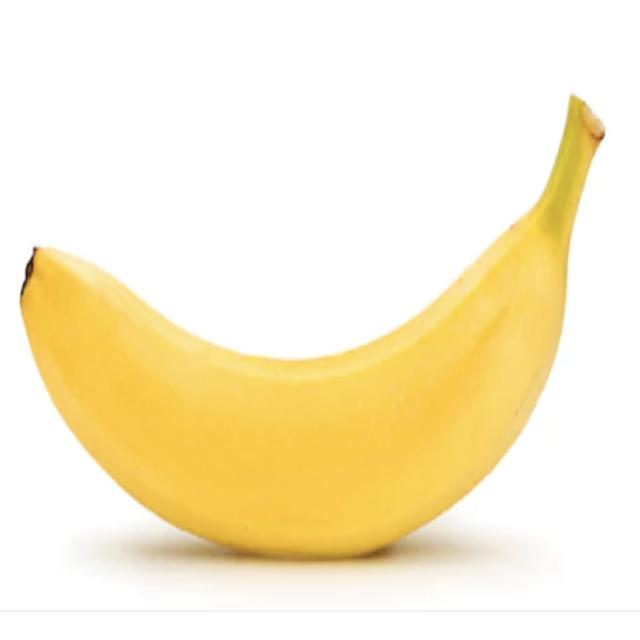fresh-banana: (18, 91, 606, 561)
